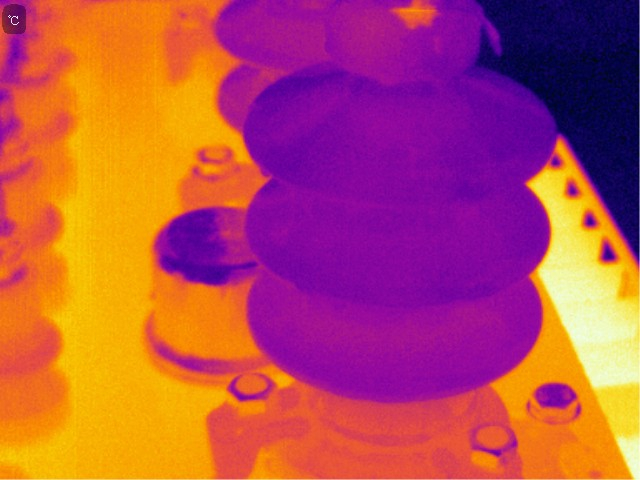Oil: (334, 12, 402, 75), (388, 1, 449, 27), (430, 34, 446, 54)
